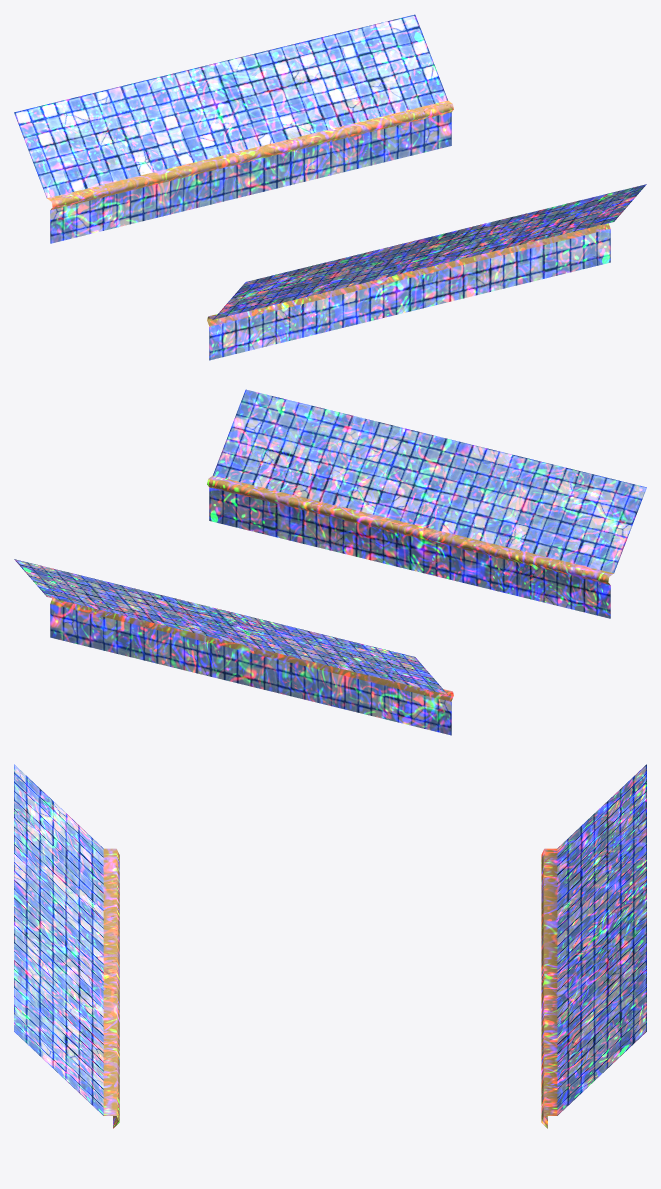
Rendered from waterfall_sides_SM.fbx.
The picture shows the model from 3 angles, top to bottom: view 1: azimuth 30°, elevation 25°; view 2: azimuth 150°, elevation 25°; view 3: azimuth 270°, elevation 25°; orthographic projection. The views are drawn at different scales.
Parts seen in each view (by area): view 1: waterfall_sides_SM_LOD0; view 2: waterfall_sides_SM_LOD0; view 3: waterfall_sides_SM_LOD0.
Boxes of the visible parts, bbox=[...] form: waterfall_sides_SM_LOD0: bbox=[14, 14, 646, 360]; waterfall_sides_SM_LOD0: bbox=[14, 389, 646, 735]; waterfall_sides_SM_LOD0: bbox=[14, 764, 646, 1128].
Size of the model in its own units: 1024 by 1024 by 256.
2 materials, 2 textured.
